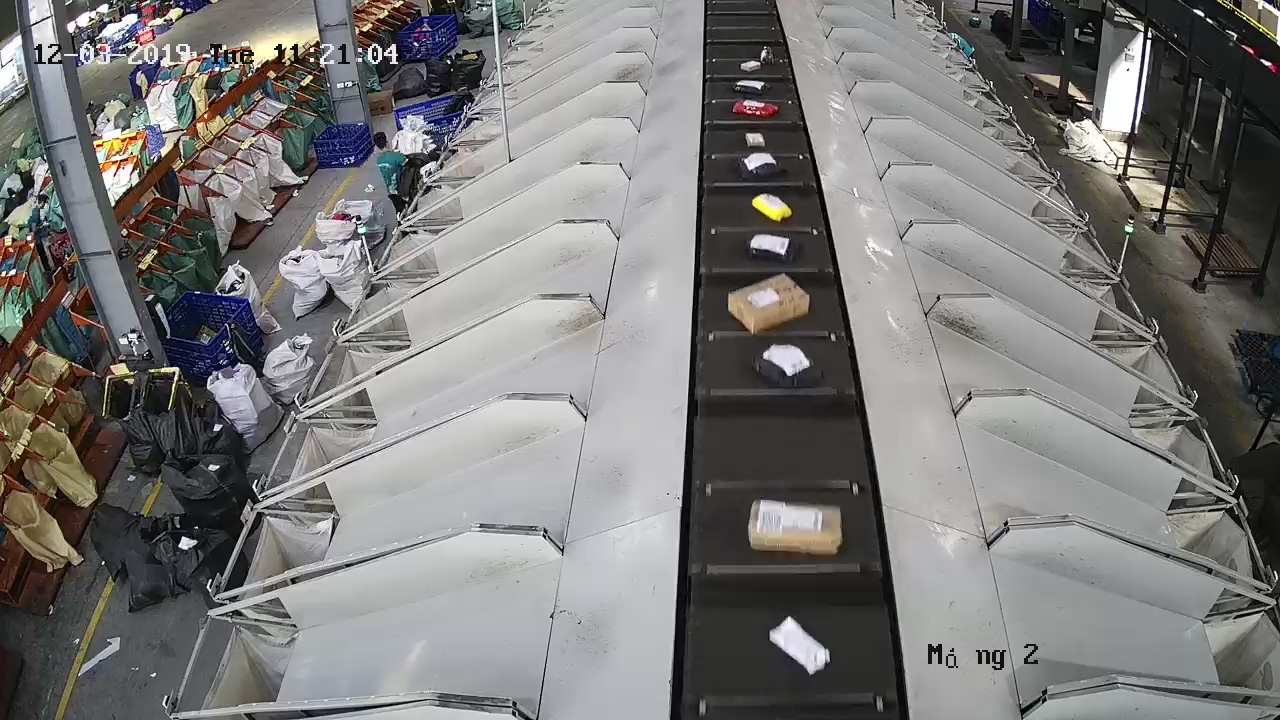parcel: (726, 271, 812, 337), (748, 500, 844, 556), (768, 614, 832, 677), (750, 341, 825, 389), (745, 231, 801, 264), (750, 192, 794, 224), (735, 151, 779, 182), (744, 131, 767, 149)
